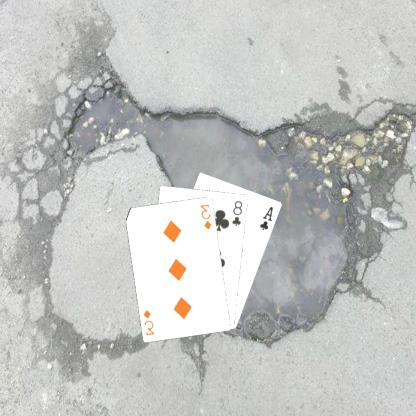3D: (142, 307, 158, 336), (200, 201, 214, 231)
8C: (231, 198, 246, 227)
AC: (259, 204, 276, 232)
